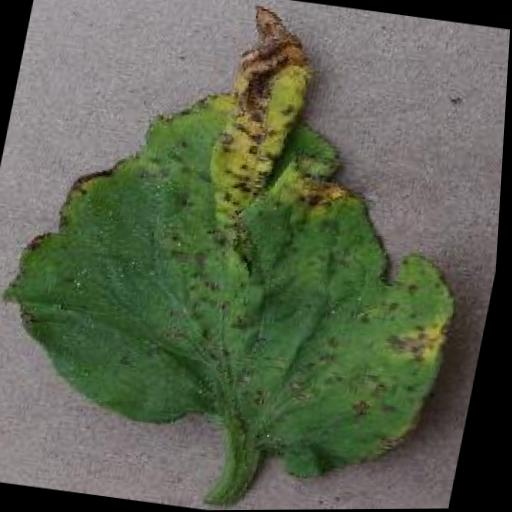Bacterial Spot: (0, 0, 509, 497)
